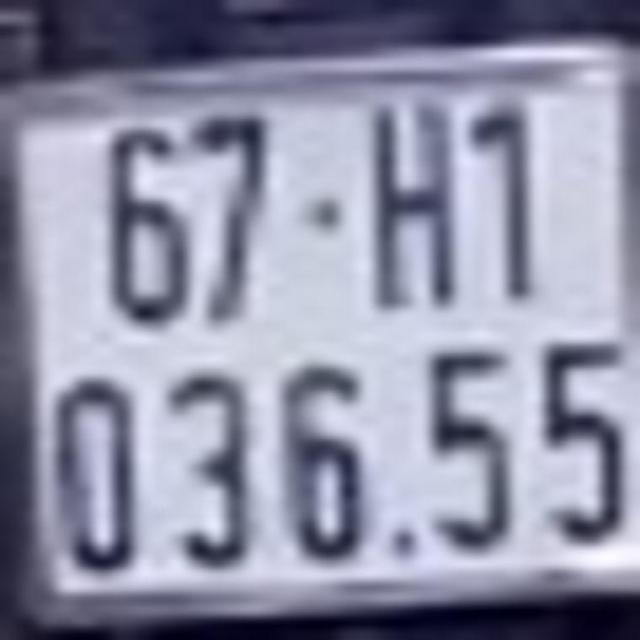0: (46, 357, 135, 572)
1: (468, 97, 539, 297)
3: (168, 357, 254, 562)
5: (431, 332, 513, 551), (539, 336, 625, 538)
6: (276, 350, 367, 556), (110, 119, 183, 328)
7: (190, 113, 278, 320)
H: (370, 95, 458, 308)
